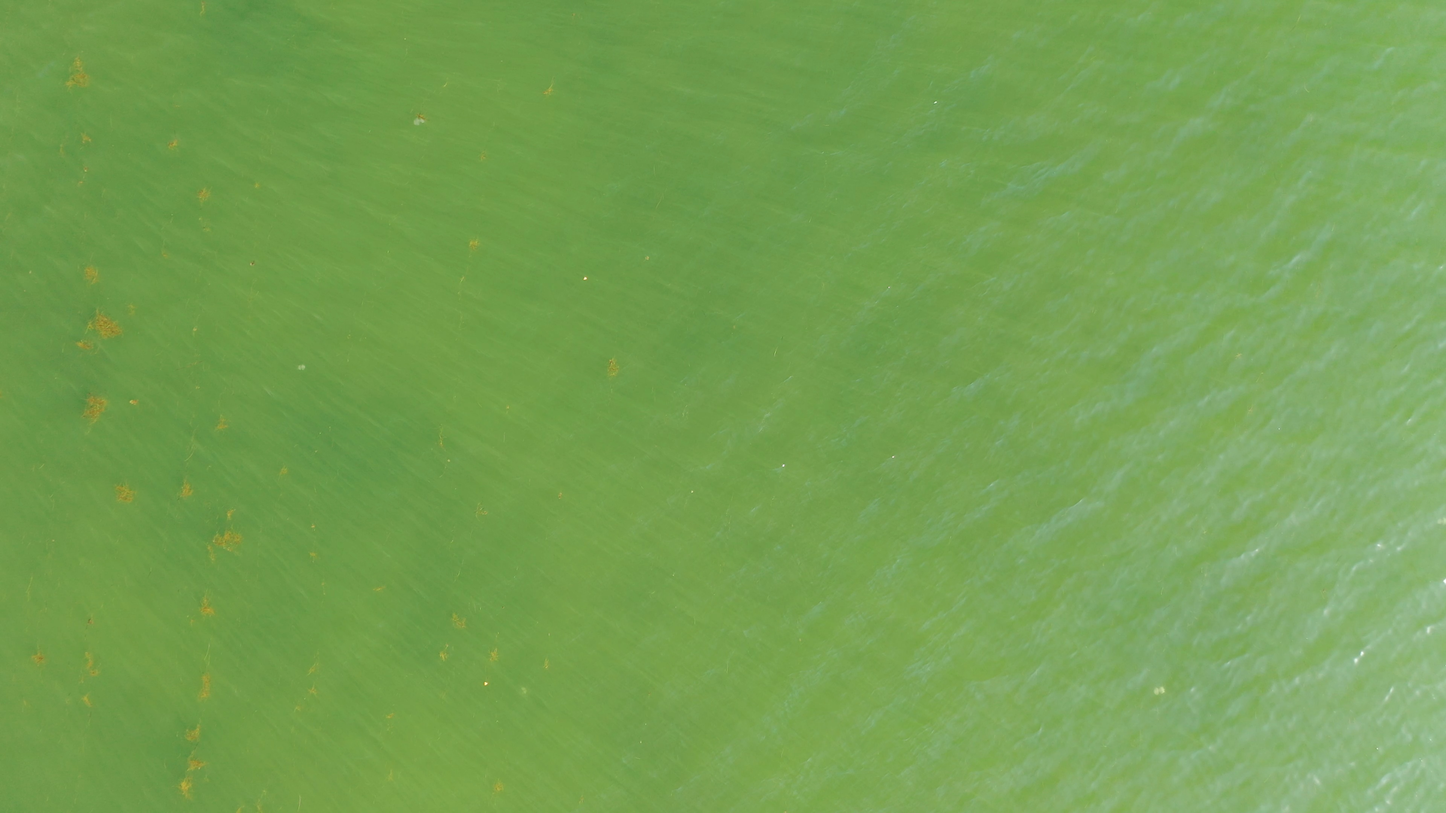meduse: (413, 116, 425, 126), (1154, 687, 1167, 696), (296, 364, 305, 371), (519, 686, 525, 693)
